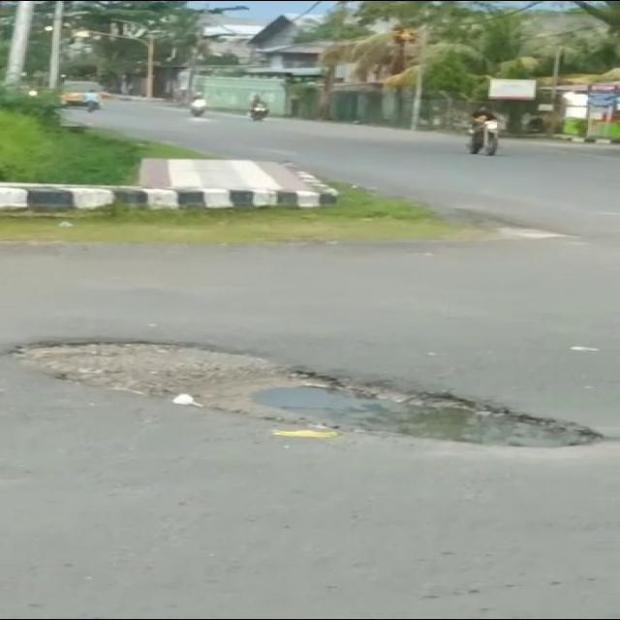lubang: (14, 342, 604, 448)
